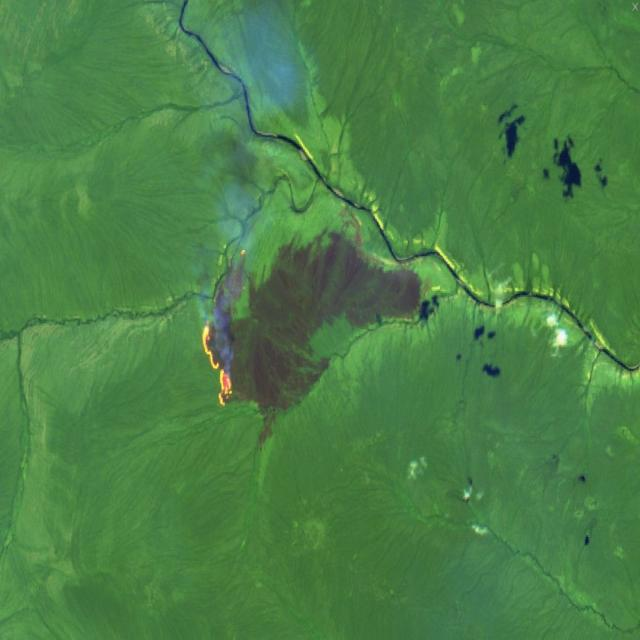fire: (197, 244, 257, 416)
